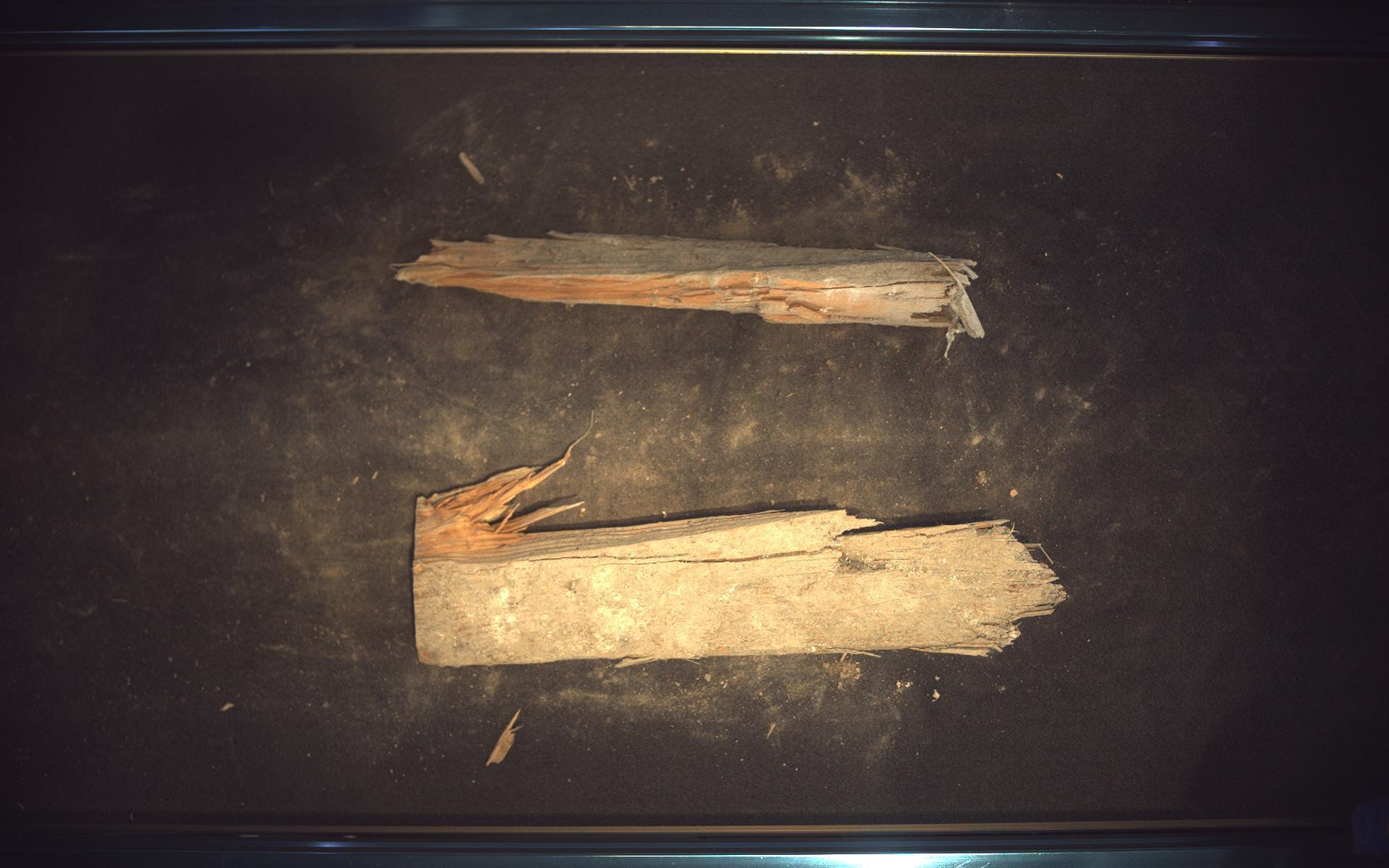wood: (413, 446, 1069, 668), (396, 232, 987, 344)
